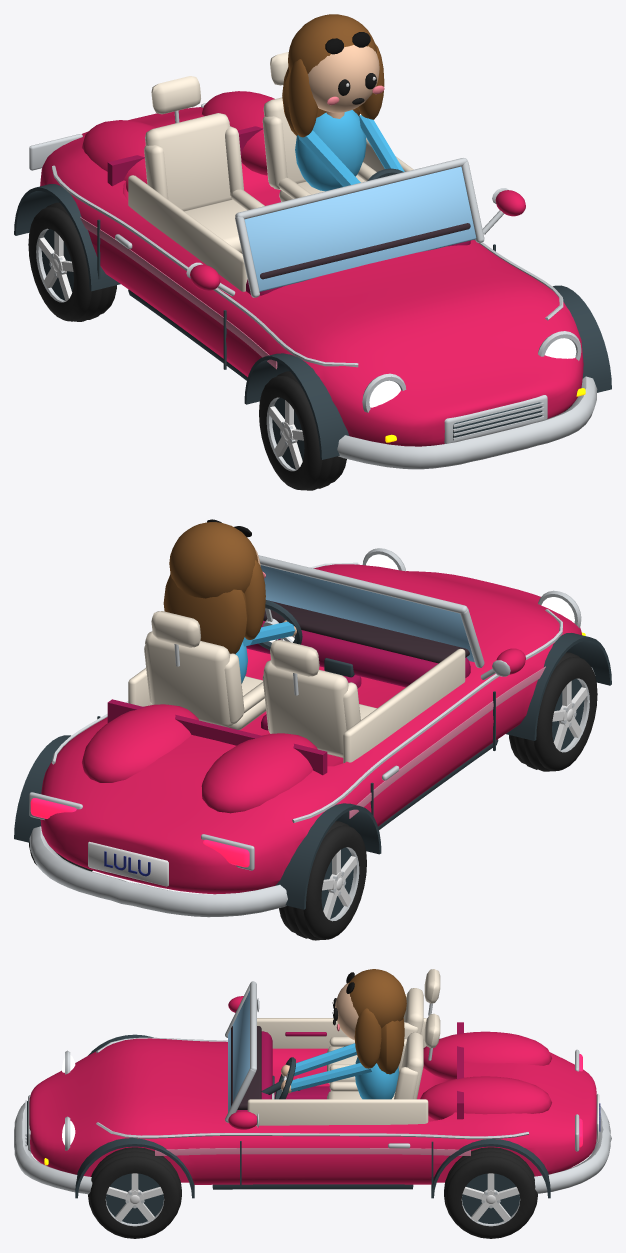
Rendered from looktest_car.glb.
3 views of the same model, one above another, from view 1: azimuth 30°, elevation 25°; view 2: azimuth 150°, elevation 25°; view 3: azimuth 270°, elevation 25° (orthographic). The views are drawn at different scales.
Visible parts, largest first — view 1: LuluCar_body, Driver, Wheel_RR, Wheel_FR, Hair_sheitel; view 2: LuluCar_body, Hair_sheitel, Wheel_FR, Wheel_RR, Driver, SteeringWheel; view 3: LuluCar_body, Wheel_RL, Wheel_FL, Hair_sheitel, Driver, SteeringWheel.
Boxes of the visible parts, bbox=[...] form: LuluCar_body: bbox=[14, 52, 611, 469]; Driver: bbox=[295, 45, 404, 191]; Wheel_RR: bbox=[28, 202, 116, 321]; Wheel_FR: bbox=[259, 371, 346, 490]; Hair_sheitel: bbox=[282, 14, 384, 137]; LuluCar_body: bbox=[14, 548, 611, 917]; Hair_sheitel: bbox=[163, 519, 265, 654]; Wheel_FR: bbox=[509, 652, 597, 771]; Wheel_RR: bbox=[279, 821, 366, 940]; Driver: bbox=[235, 548, 296, 683]; SteeringWheel: bbox=[258, 600, 302, 650]; LuluCar_body: bbox=[14, 969, 611, 1198]; Wheel_RL: bbox=[444, 1147, 537, 1238]; Wheel_FL: bbox=[88, 1147, 181, 1238]; Hair_sheitel: bbox=[346, 969, 406, 1074]; Driver: bbox=[281, 983, 399, 1099]; SteeringWheel: bbox=[274, 1057, 295, 1099].
Size of the model in its own units: 2.11 by 1.89 by 4.3.
